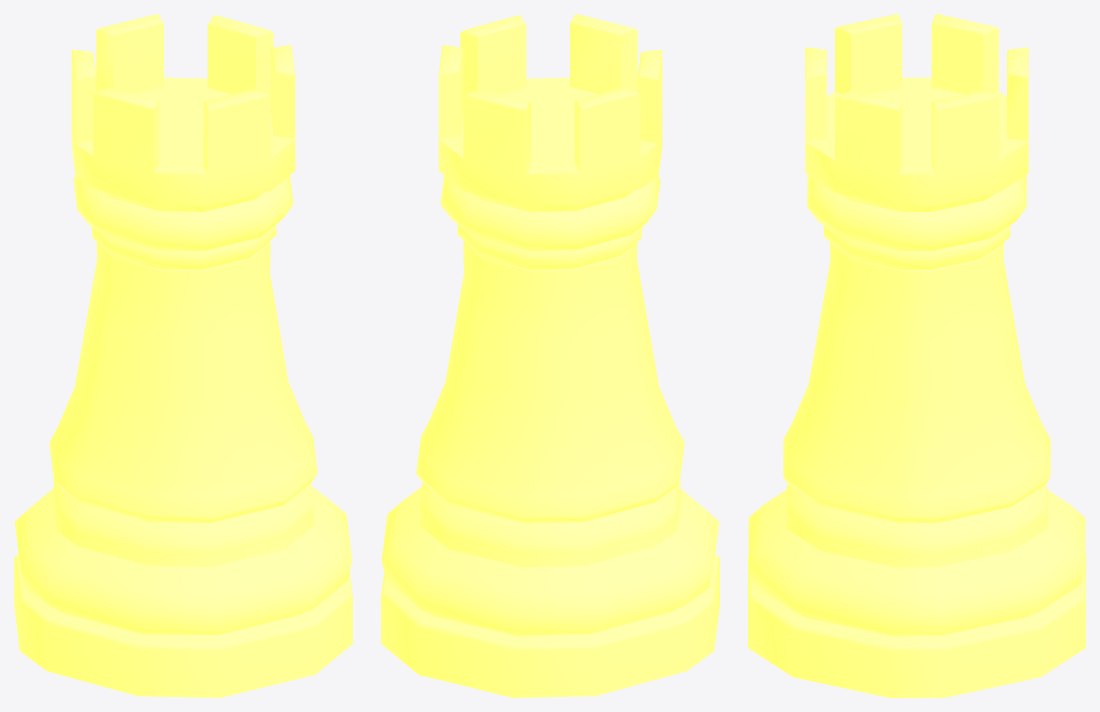
File: item-3-1.glb
3 renders of one model, left to right at view 1: azimuth 30°, elevation 25°; view 2: azimuth 150°, elevation 25°; view 3: azimuth 270°, elevation 25°, orthographic.
Parts seen in each view (by area): view 1: BlackTower; view 2: BlackTower; view 3: BlackTower.
Boxes of the visible parts, x1=… form: BlackTower: x1=14, y1=14, x2=352, y2=697; BlackTower: x1=381, y1=14, x2=719, y2=697; BlackTower: x1=748, y1=14, x2=1085, y2=697.
Size of the model in its own units: 0.092 by 0.1651 by 0.0897.
